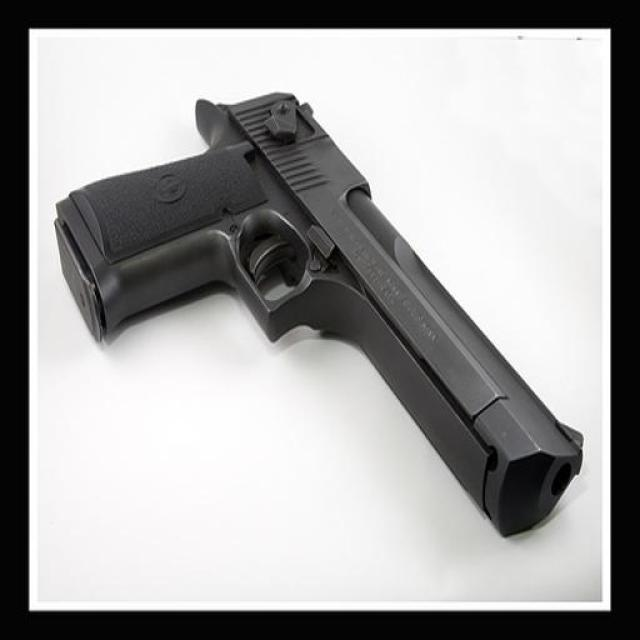pistol: (49, 90, 583, 536)
